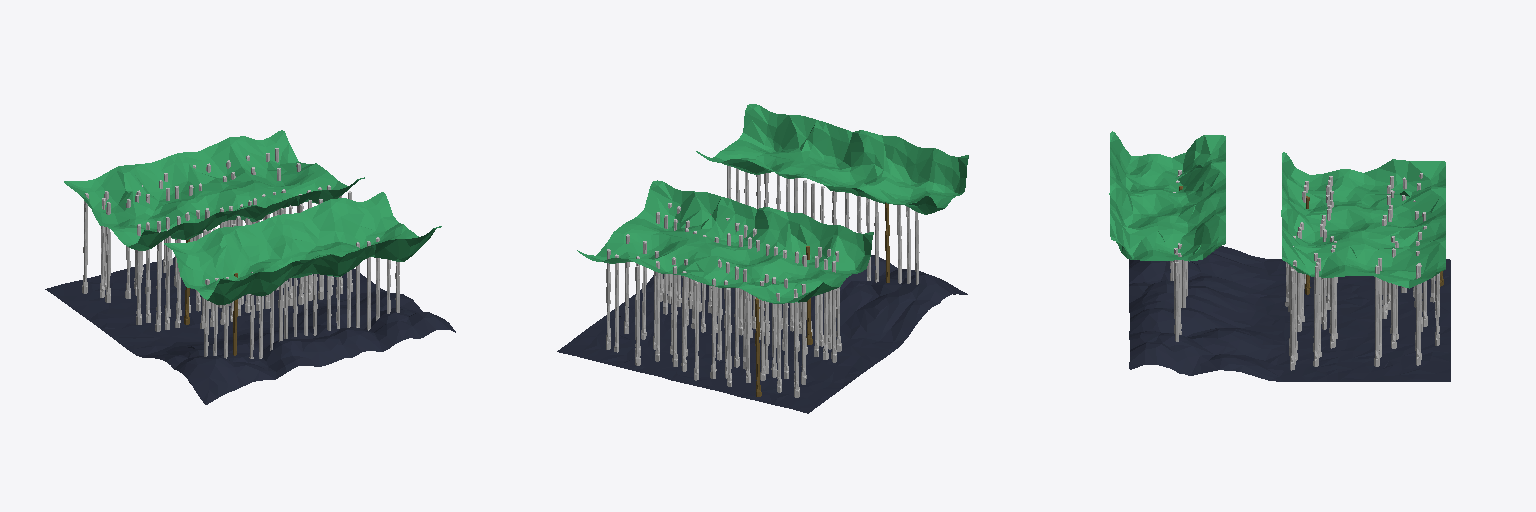
The model's file is frs3.obj.
3 renders of one model, left to right at view 1: azimuth 30°, elevation 25°; view 2: azimuth 150°, elevation 25°; view 3: azimuth 270°, elevation 25°, orthographic.
Parts seen in each view (by area): view 1: Plane_Plane.007, Plane.003_Plane.004, Plane.002_Plane.005; view 2: Plane_Plane.007, Plane.003_Plane.004, Plane.002_Plane.005; view 3: Plane_Plane.007, Plane.003_Plane.004, Plane.002_Plane.005.
Boxes of the visible parts, box(x1,y1,x2,y2) form: Plane_Plane.007: box(45, 257, 455, 404); Plane.003_Plane.004: box(64, 130, 364, 250); Plane.002_Plane.005: box(164, 192, 441, 304); Plane_Plane.007: box(557, 255, 967, 413); Plane.003_Plane.004: box(577, 180, 873, 303); Plane.002_Plane.005: box(696, 104, 968, 214); Plane_Plane.007: box(1129, 246, 1450, 381); Plane.003_Plane.004: box(1281, 152, 1445, 288); Plane.002_Plane.005: box(1109, 131, 1225, 261).
Bounding box in the file's own units: 5.65 × 2.91 × 6.6.